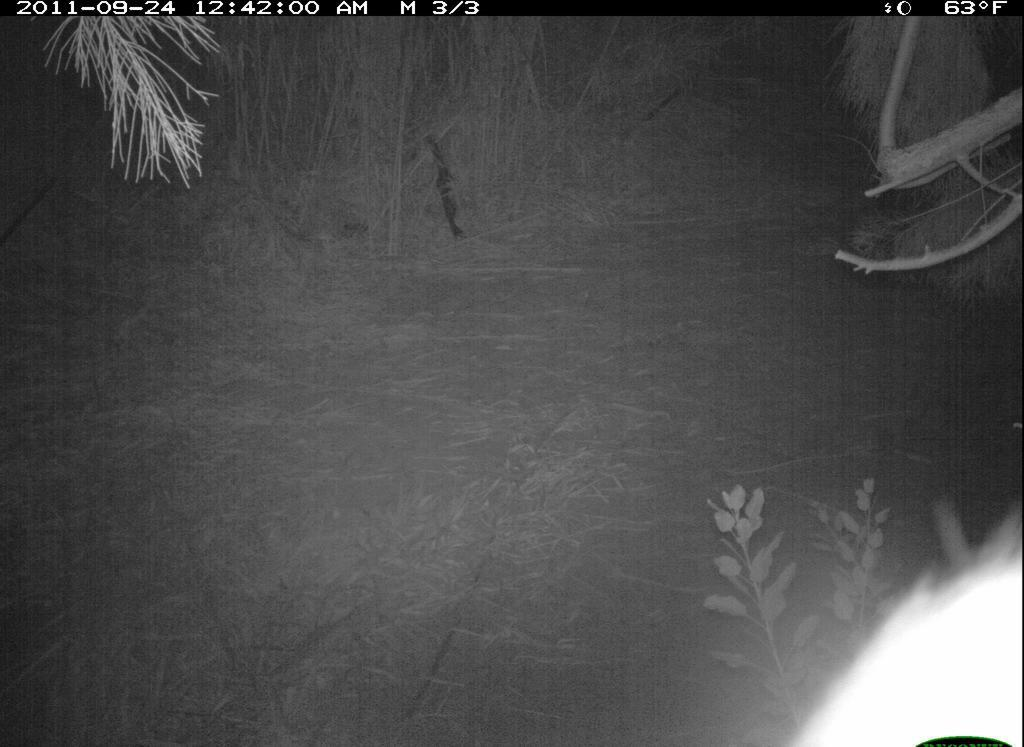raccoon: (784, 513, 1023, 747)
